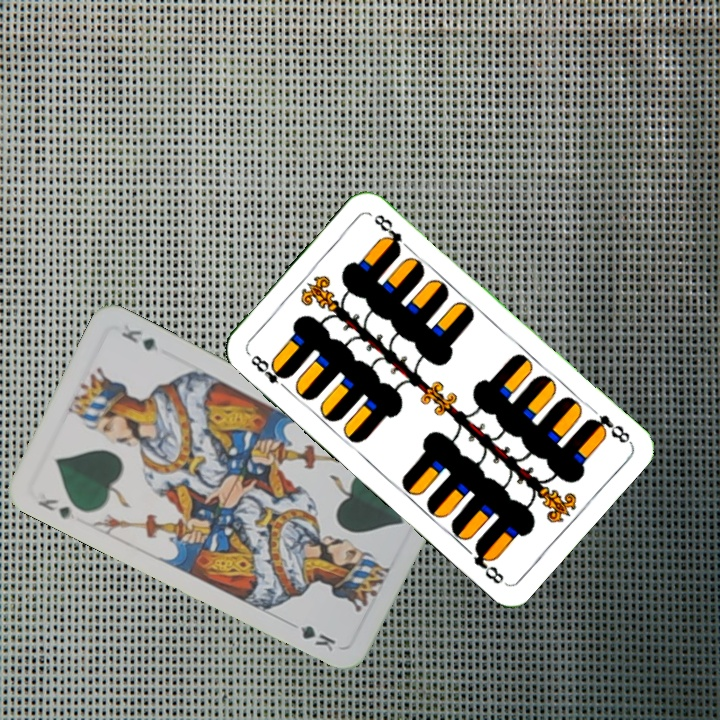E8: (244, 349, 292, 394), (583, 411, 633, 446)
GK: (33, 494, 73, 522)
